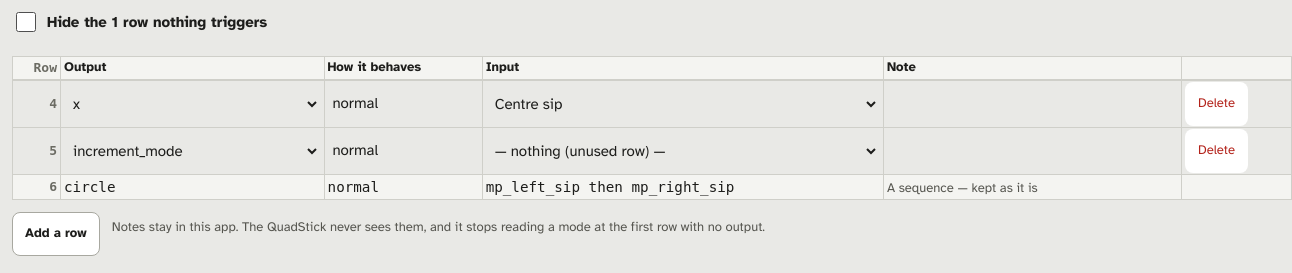
Test case: TableView › keeps the spreadsheet row numbers when rows are hidden
Check: the elements with class "rownum" read "4", "5", "6", in this order, box [12,80,60,127]; [12,127,60,174]; [12,174,60,200]
Click the checkbox labelled "Hide the 1 row nothing triggers". click: (26, 22)
box: [16,12,36,32]
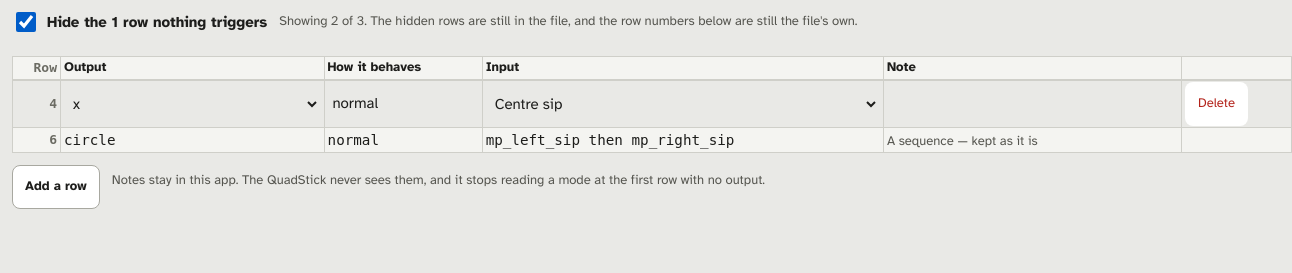
Check: the elements with class "rownum" read "4", "6", in this order, box [12,80,60,127]; [12,127,60,152]
